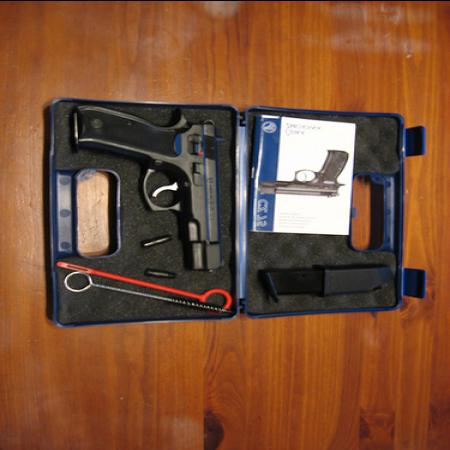Pistol: (74, 104, 225, 274), (259, 148, 348, 198)
